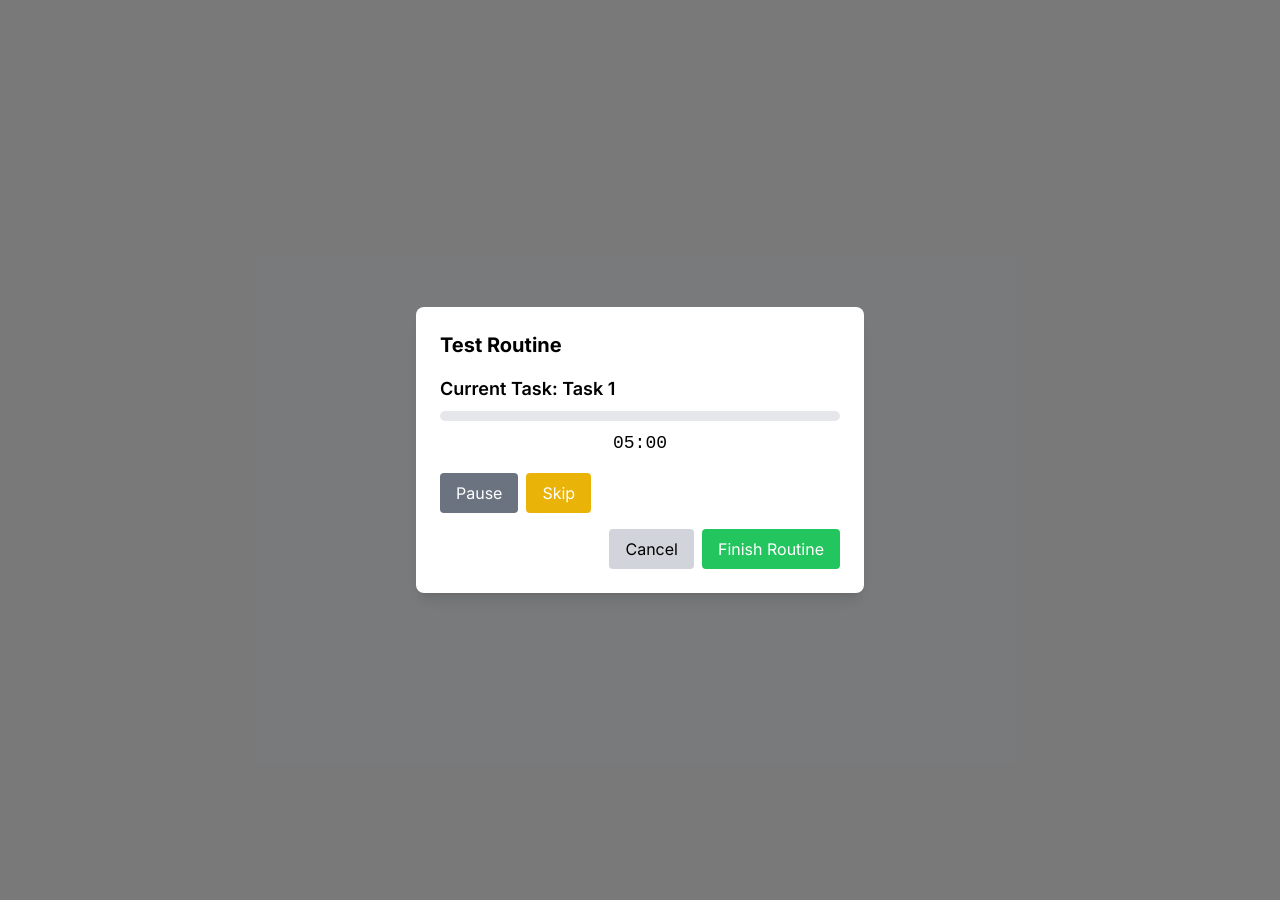
it: ExecutionMode › pauses and resumes timer
The width and height of the screenshot is (1280, 900).
Click the button "Pause" at (479, 493), box [440,473,518,513]
Wait 60000 ms
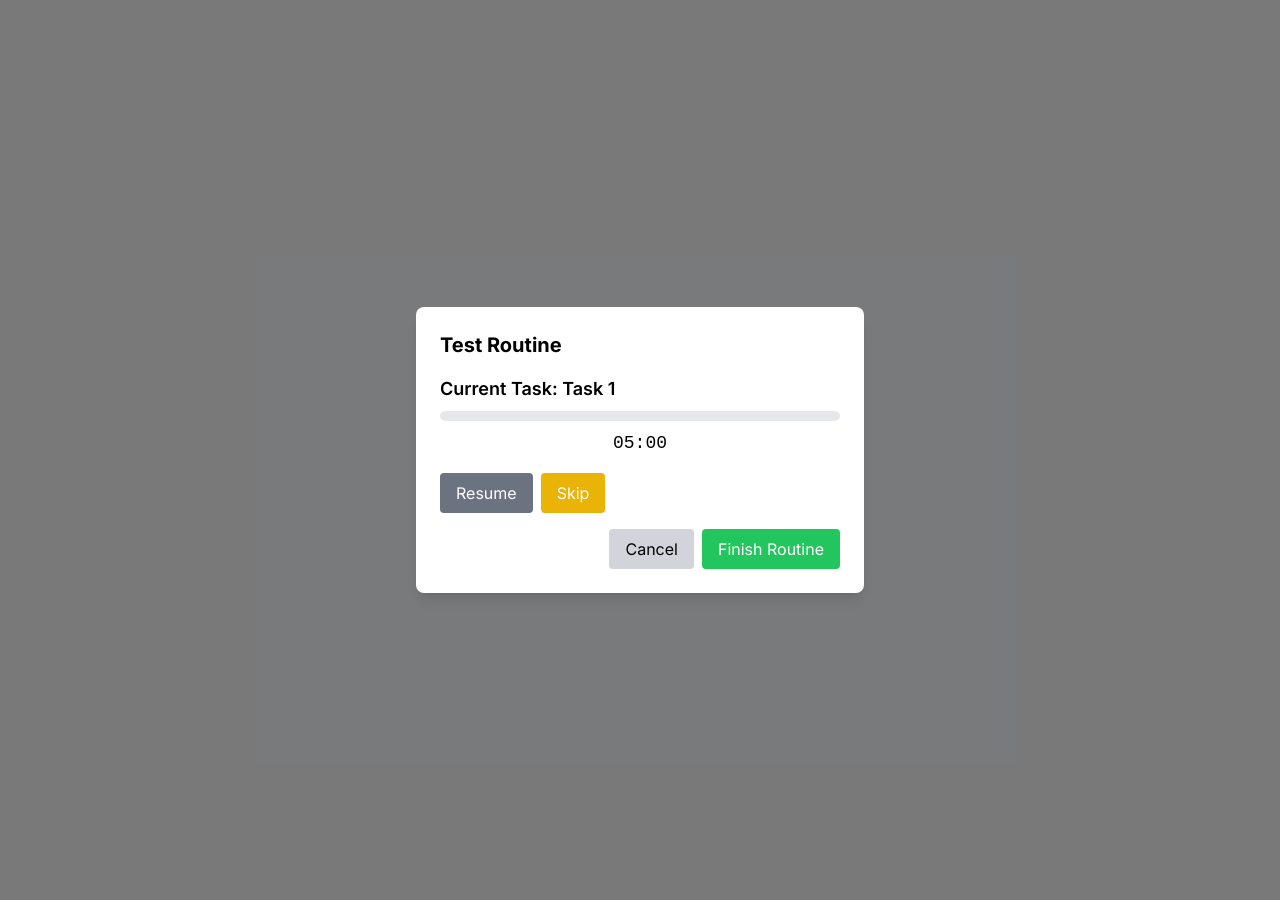
Expected: the text "05:00" is shown, [613,433,667,453]
Click the button "Resume" at (486, 493), box [440,473,533,513]
Wait 60000 ms
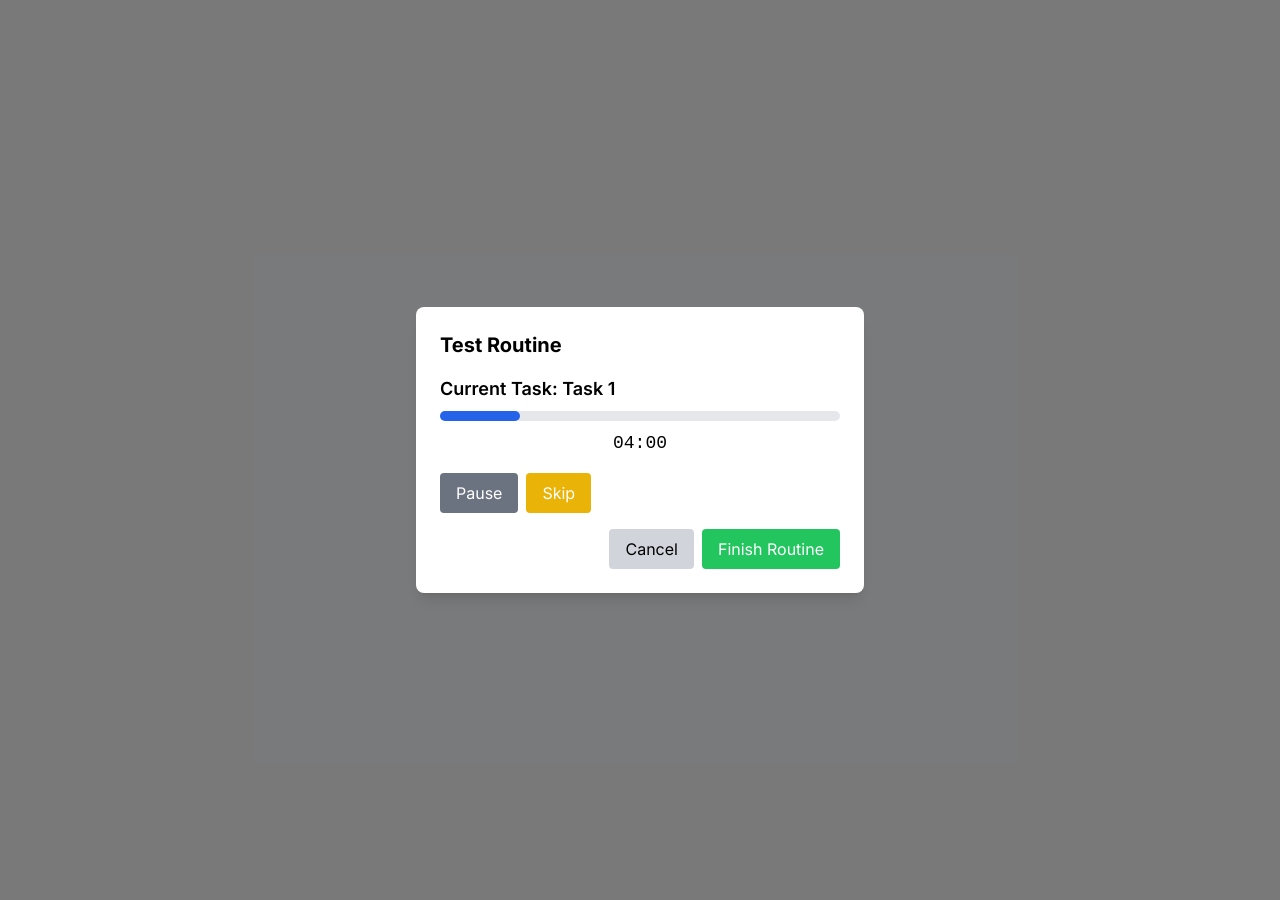
Expected: the text "04:00" is shown, [613,433,667,453]
